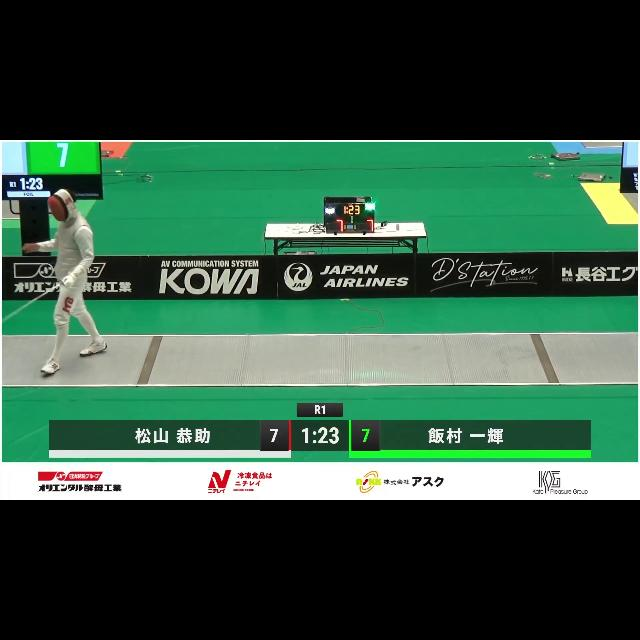blade: (0, 276, 70, 326)
